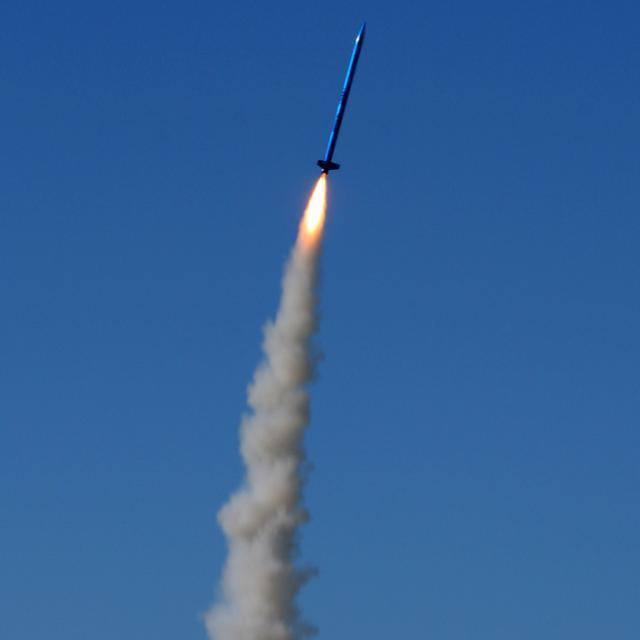missile: (318, 19, 379, 172)
